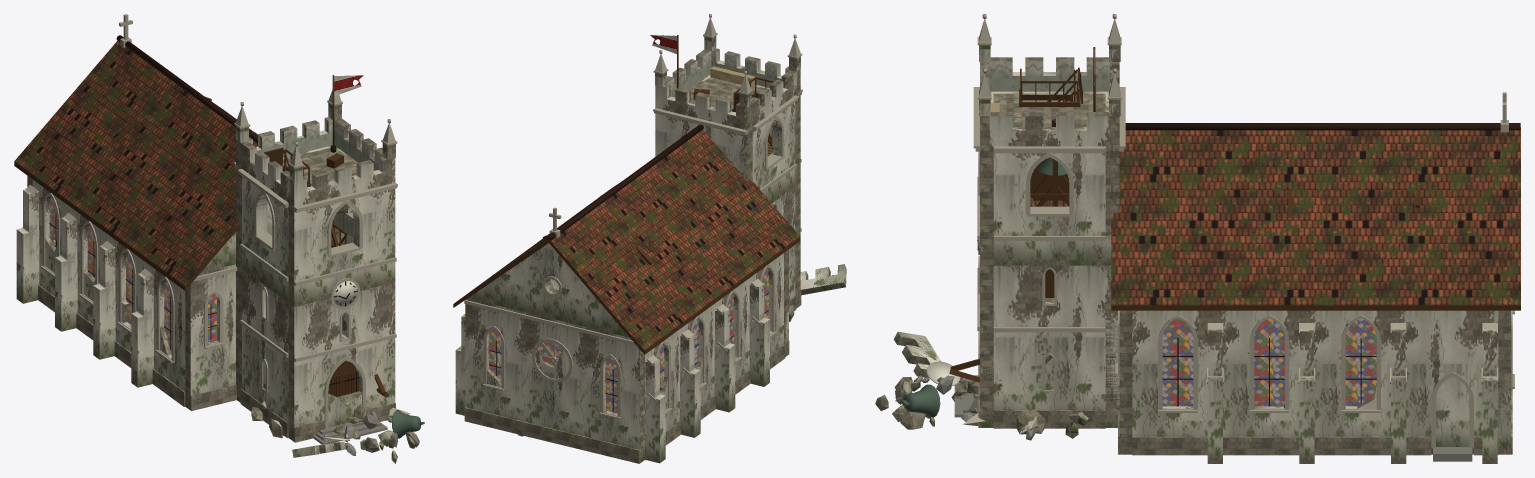
Rendered from kerk.glb.
3 views of the same model, side by side, from view 1: azimuth 30°, elevation 25°; view 2: azimuth 150°, elevation 25°; view 3: azimuth 270°, elevation 25° (orthographic). The views are drawn at different scales.
Visible parts, largest first — view 1: Dak_heel, Dak_kapot, M1V0_heel, RuineTorenMesh, M2V0_heel, S0V0_heel, M0V0_heel, S0W0_heel, S0W1_heel, S0W3_heel, S0W2_heel, M2W0_heel (+26 smaller); view 2: Dak_heel, Dak_kapot, RuineSchipMesh, S0A0_heel, S0A2_heel, S0W1_heel, S0W2_heel, S0W0_heel, S0W3_heel, S0A1_heel, M2W0_heel, M3A0_heel (+21 smaller); view 3: Dak_heel, Dak_kapot, RuineSchipMesh, S0O0_heel, S0O2_heel, S0O1_heel, RuineTorenMesh, M1O0_heel, M2O0_heel, M0O0_heel, S0O3_heel, M3O0_heel (+22 smaller).
Part boxes in pixels (left/top/right/bottom): Dak_heel: left=14, top=14, right=257, bottom=290; Dak_kapot: left=14, top=41, right=257, bottom=285; M1V0_heel: left=288, top=262, right=396, bottom=362; RuineTorenMesh: left=236, top=222, right=424, bottom=463; M2V0_heel: left=288, top=182, right=397, bottom=285; S0V0_heel: left=185, top=266, right=237, bottom=410; M0V0_heel: left=288, top=338, right=395, bottom=442; S0W0_heel: left=131, top=264, right=185, bottom=406; S0W1_heel: left=93, top=235, right=147, bottom=367; S0W3_heel: left=16, top=180, right=70, bottom=312; S0W2_heel: left=55, top=208, right=108, bottom=339; M2W0_heel: left=237, top=169, right=288, bottom=281; Dak_heel: left=453, top=124, right=800, bottom=354; Dak_kapot: left=467, top=129, right=799, bottom=349; RuineSchipMesh: left=465, top=311, right=788, bottom=463; S0A0_heel: left=581, top=328, right=644, bottom=463; S0A2_heel: left=464, top=300, right=523, bottom=435; S0W1_heel: left=714, top=279, right=750, bottom=412; S0W2_heel: left=679, top=304, right=715, bottom=437; S0W0_heel: left=749, top=253, right=785, bottom=386; S0W3_heel: left=645, top=329, right=680, bottom=463; S0A1_heel: left=522, top=314, right=581, bottom=449; M2W0_heel: left=752, top=95, right=799, bottom=192; M3A0_heel: left=653, top=50, right=752, bottom=130; Dak_heel: left=1111, top=92, right=1520, bottom=310; Dak_kapot: left=1111, top=130, right=1520, bottom=305; RuineSchipMesh: left=1119, top=347, right=1510, bottom=454; S0O0_heel: left=1132, top=310, right=1223, bottom=463; S0O2_heel: left=1315, top=310, right=1406, bottom=463; S0O1_heel: left=1223, top=310, right=1315, bottom=463; RuineTorenMesh: left=875, top=235, right=1119, bottom=440; M1O0_heel: left=993, top=241, right=1105, bottom=332; M2O0_heel: left=993, top=146, right=1105, bottom=240; M0O0_heel: left=993, top=332, right=1105, bottom=428; S0O3_heel: left=1407, top=310, right=1498, bottom=463; M3O0_heel: left=989, top=112, right=1109, bottom=146.
Size of the model in its own units: 11.1 by 15.02 by 23.09.
Materials: 21 (8 with a texture image).
